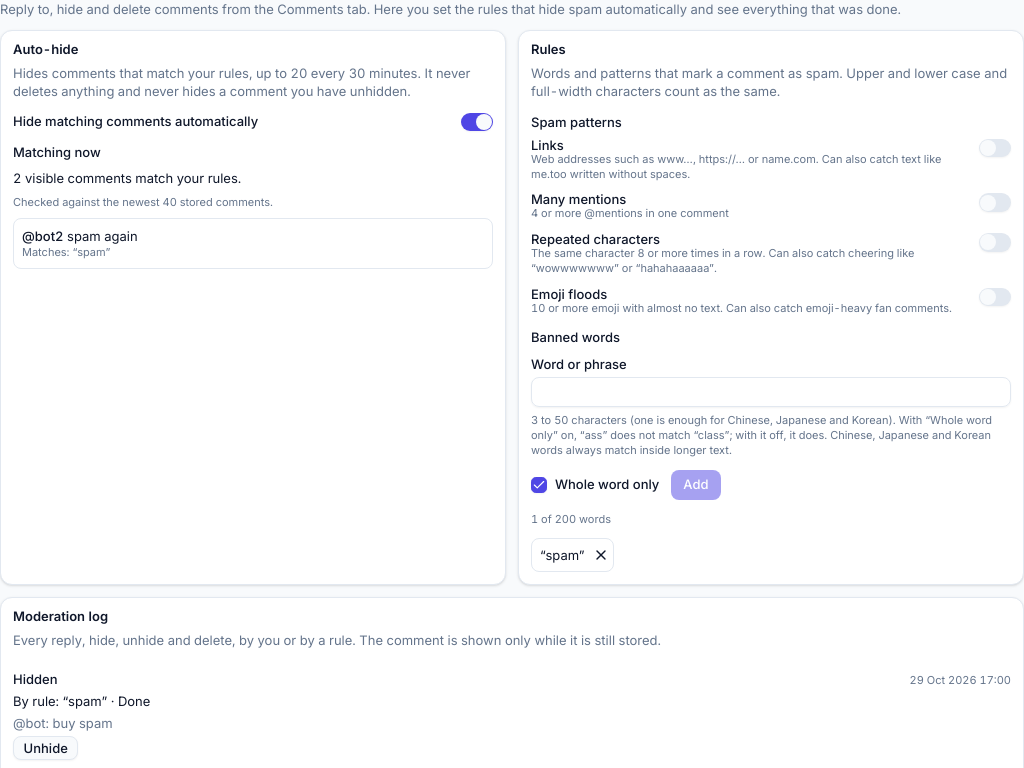
Test: ModerationTab › auto-hide ON: cancelling the confirm saves nothing and keeps the typed word
Type "cheap" into the field labelled "Word or phrase" at (771, 392), box top-left (531, 377), bottom-right (1011, 407)
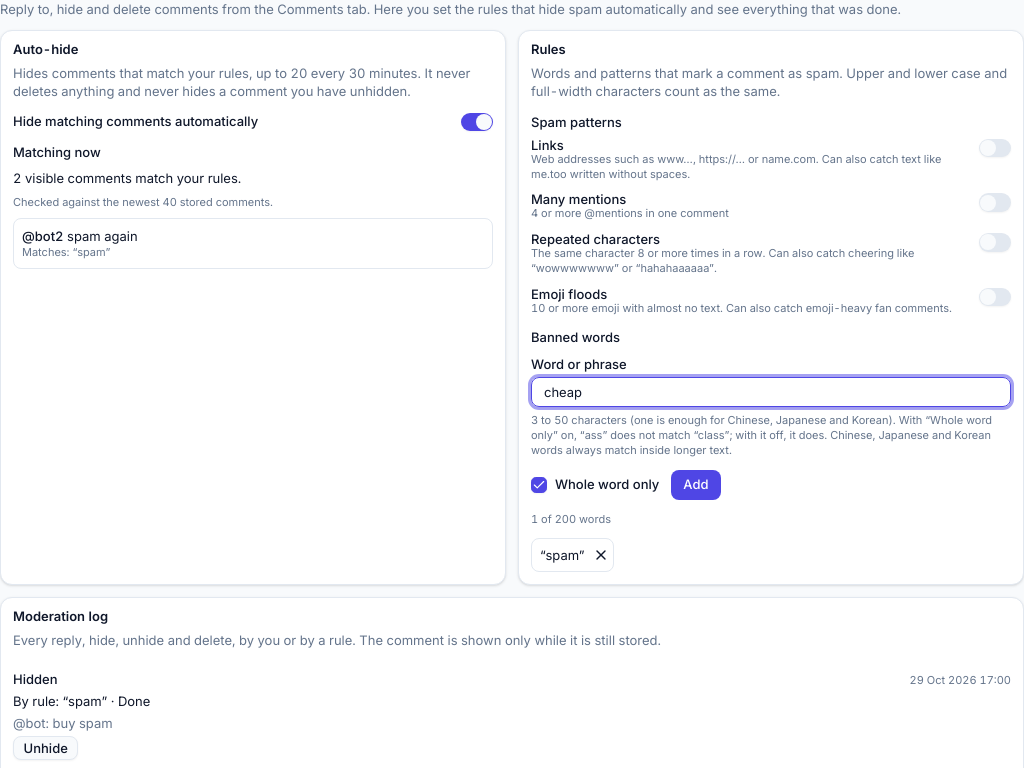
Click the button "Add" at (696, 484), box top-left (671, 470), bottom-right (721, 500)
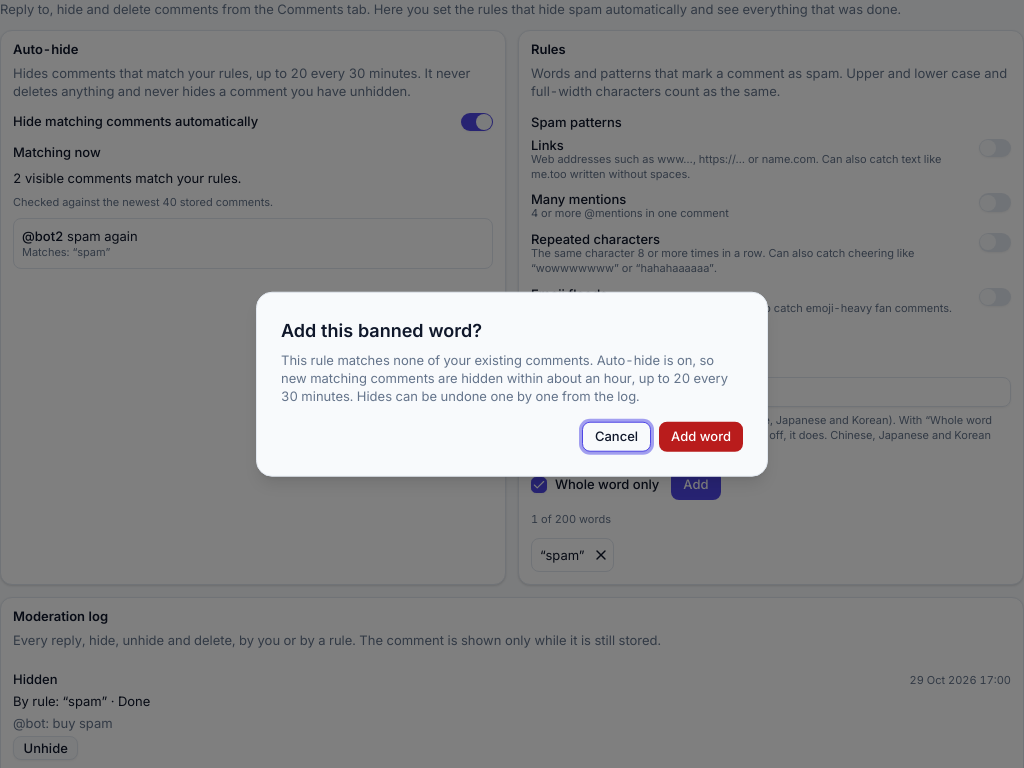
Expected: the dialog shows "This rule matches none of your existing comments.", top-left (281, 352), bottom-right (728, 404)
Click the button "Cancel" at (616, 436), box top-left (582, 421), bottom-right (651, 451)
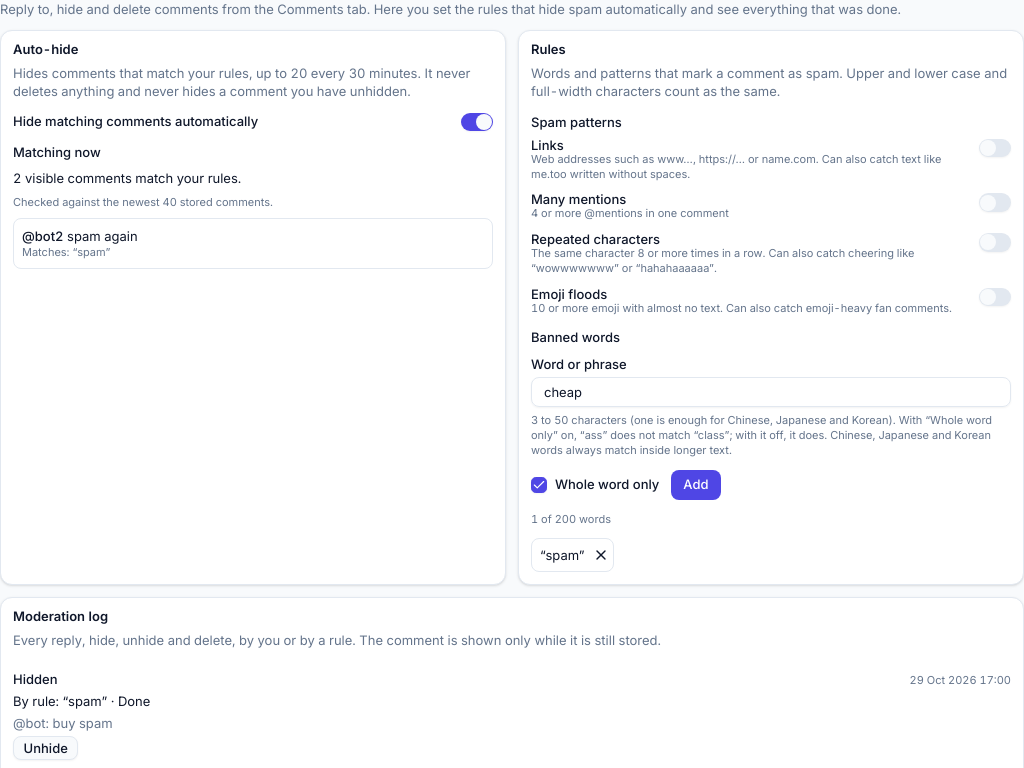
Expected: the dialog is gone
